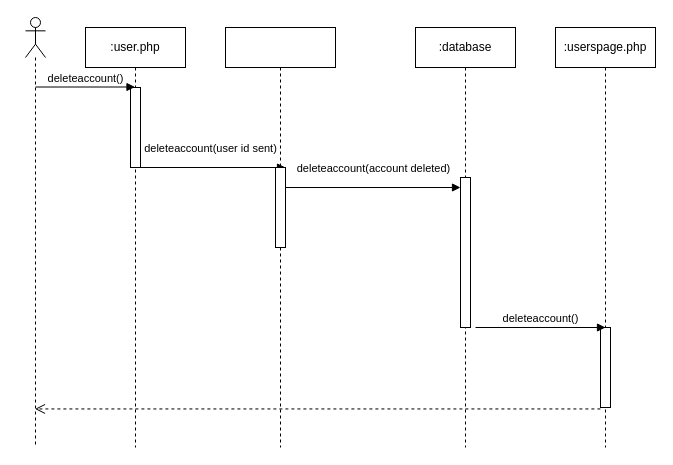
The diagram is 673 pixels wide and 465 high, and some of its shapes have lost their labels. The shapes that lost their labels are listed below. From the top down, each one's box as (x1, y1, x2, y2) in pixels, then its label:
(24, 16, 46, 448): :admin
(224, 26, 336, 448): :deleteaccount.php
